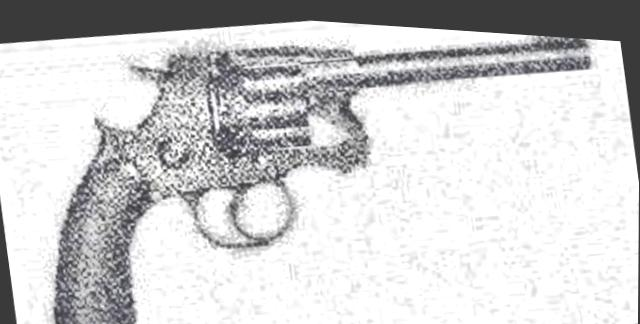pistol: (9, 1, 618, 324)
